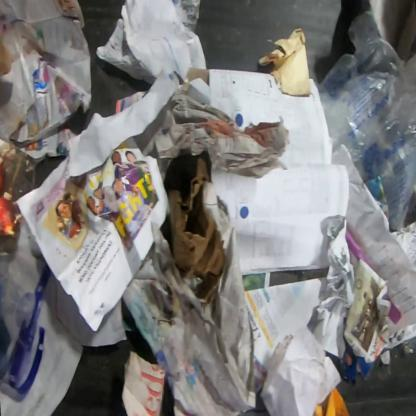cardboard: (159, 147, 226, 309), (340, 344, 376, 382), (0, 41, 15, 78)
soft_plastic: (318, 10, 415, 230), (0, 235, 53, 397)
